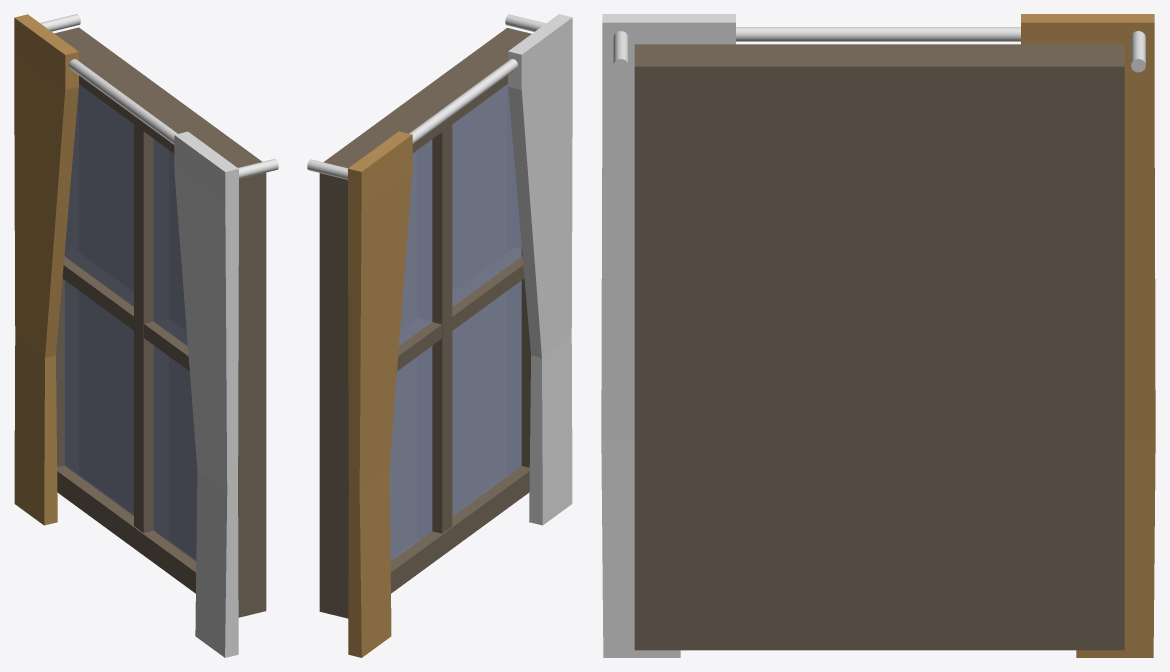
File: fenetre_01.fbx
3 renders of one model, left to right at view 1: azimuth 30°, elevation 25°; view 2: azimuth 150°, elevation 25°; view 3: azimuth 270°, elevation 25°, orthographic. The views are drawn at different scales.
Visible parts, largest first — view 1: pasted__pasted__pCube14, pasted__pasted__pasted__pCube15, pasted__pasted__pCube15, pasted__pasted__pasted__pCube14, pasted__pasted__pasted__pCube16, pasted__pasted__pCylinder20, pasted__pasted__pasted__pasted__pCylinder20, pasted__pasted__pasted__pCylinder20; view 2: pasted__pasted__pCube14, pasted__pasted__pCube15, pasted__pasted__pasted__pCube15, pasted__pasted__pasted__pCube14, pasted__pasted__pasted__pCube16, pasted__pasted__pCylinder20, pasted__pasted__pasted__pCylinder20, pasted__pasted__pasted__pasted__pCylinder20; view 3: pasted__pasted__pCube14, pasted__pasted__pasted__pCube15, pasted__pasted__pCube15, pasted__pasted__pCylinder20.
Boxes of the visible parts, x1=… form: pasted__pasted__pCube14: x1=54, y1=27, x2=266, y2=617; pasted__pasted__pasted__pCube15: x1=174, y1=131, x2=238, y2=657; pasted__pasted__pCube15: x1=14, y1=14, x2=78, y2=525; pasted__pasted__pasted__pCube14: x1=134, y1=124, x2=153, y2=532; pasted__pasted__pasted__pCube16: x1=62, y1=256, x2=189, y2=370; pasted__pasted__pCylinder20: x1=69, y1=59, x2=177, y2=144; pasted__pasted__pasted__pasted__pCylinder20: x1=238, y1=159, x2=278, y2=178; pasted__pasted__pasted__pCylinder20: x1=40, y1=14, x2=80, y2=31; pasted__pasted__pCube14: x1=319, y1=28, x2=531, y2=618; pasted__pasted__pCube15: x1=348, y1=131, x2=412, y2=657; pasted__pasted__pasted__pCube15: x1=508, y1=14, x2=572, y2=525; pasted__pasted__pasted__pCube14: x1=432, y1=125, x2=452, y2=533; pasted__pasted__pasted__pCube16: x1=397, y1=256, x2=524, y2=371; pasted__pasted__pCylinder20: x1=409, y1=59, x2=517, y2=144; pasted__pasted__pasted__pCylinder20: x1=307, y1=159, x2=347, y2=179; pasted__pasted__pasted__pasted__pCylinder20: x1=505, y1=14, x2=545, y2=31; pasted__pasted__pCube14: x1=634, y1=44, x2=1124, y2=650; pasted__pasted__pasted__pCube15: x1=601, y1=14, x2=735, y2=657; pasted__pasted__pCube15: x1=1021, y1=14, x2=1155, y2=657; pasted__pasted__pCylinder20: x1=736, y1=27, x2=1020, y2=41.
Size of the model in its own units: 1.06 by 8.56 by 6.77.
